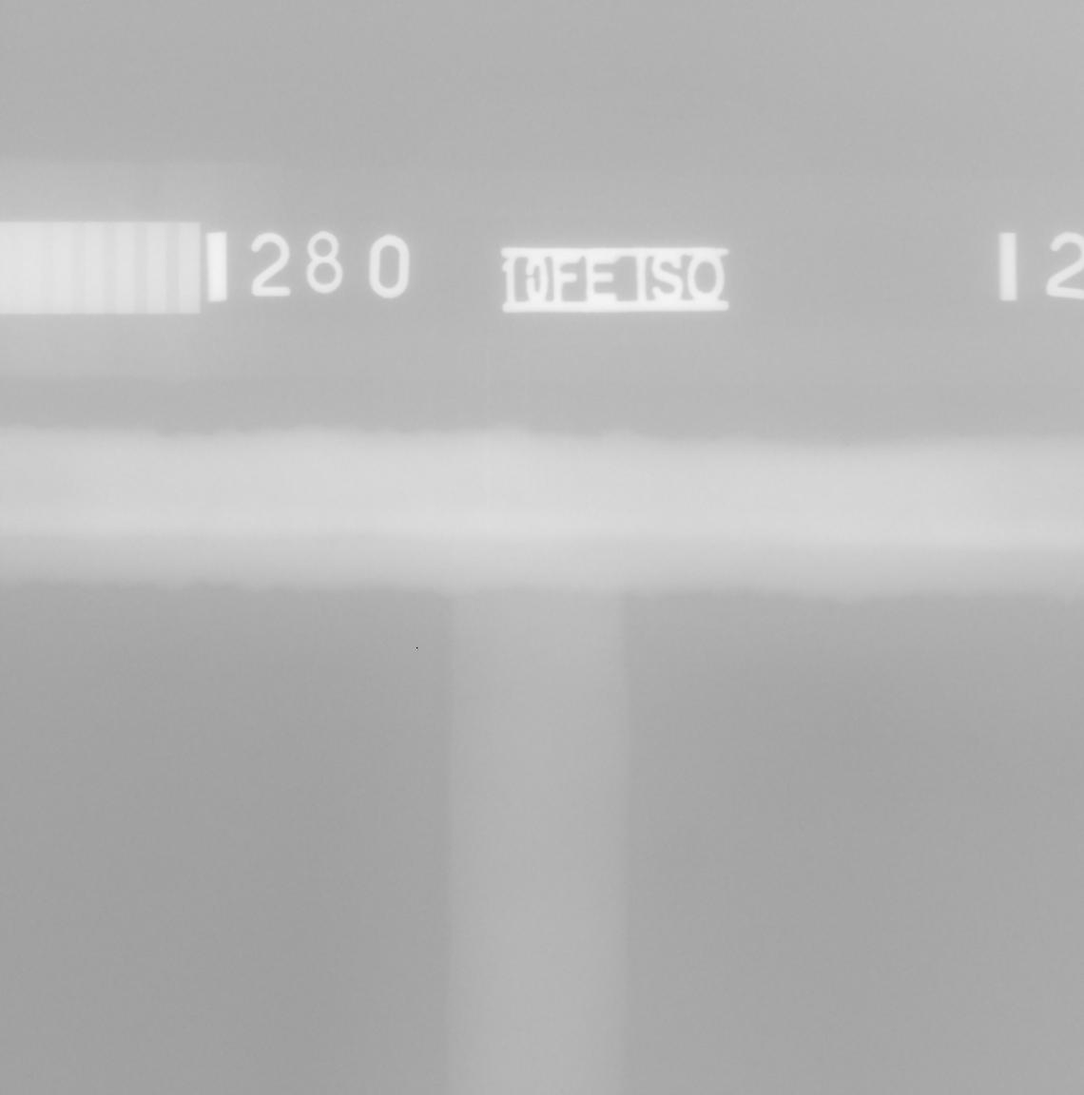Pore/Porosity: (985, 520, 991, 528)
